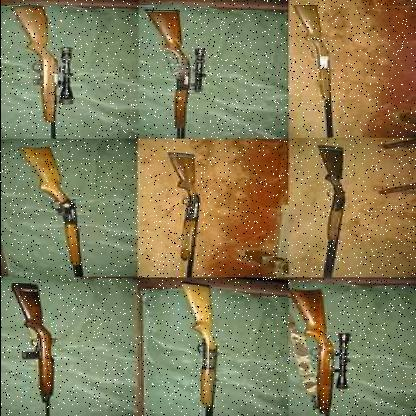rifle: (12, 140, 111, 280), (159, 280, 256, 415), (142, 0, 215, 142), (284, 291, 367, 415), (1, 278, 76, 413), (18, 3, 79, 133), (290, 6, 349, 134), (302, 148, 354, 275), (154, 148, 202, 275)
